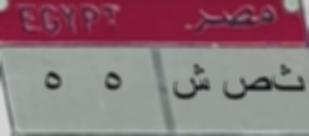5: (95, 63, 132, 98), (35, 67, 71, 96)
saad: (221, 65, 272, 107)
sheen: (170, 61, 213, 106)
thaa: (275, 57, 306, 101)
